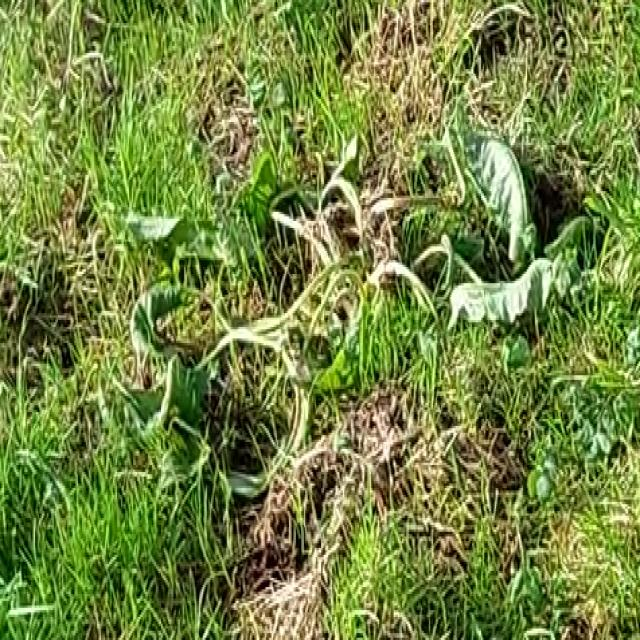organic waste: (83, 94, 566, 562)
